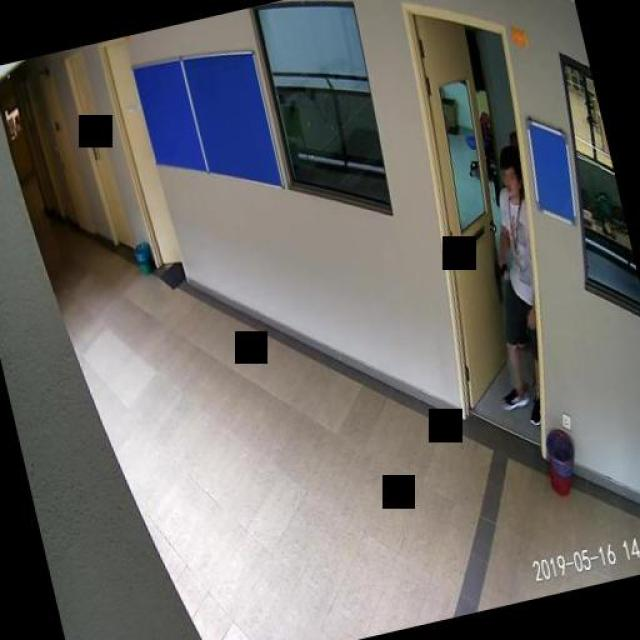gun: (490, 256, 512, 300)
